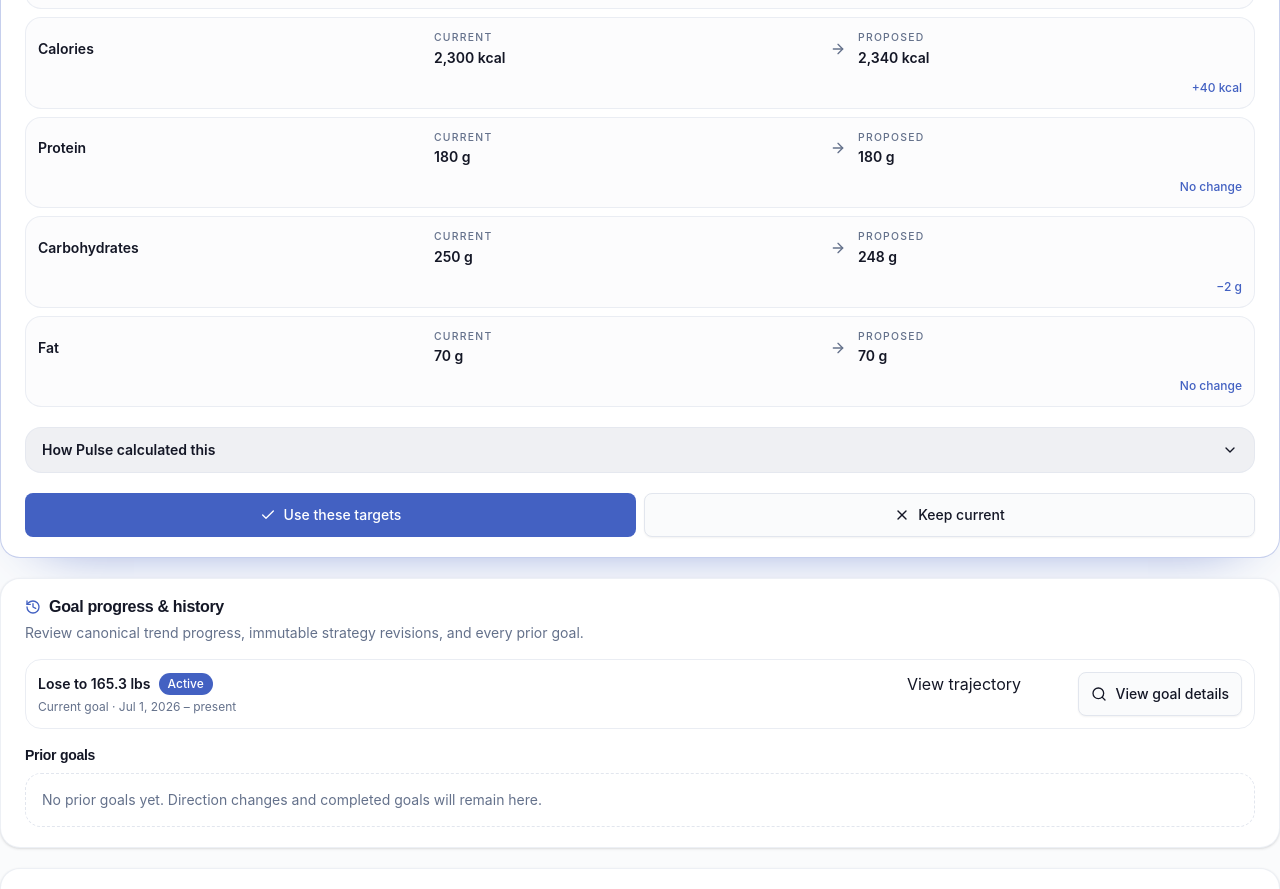
Scenario: AdaptiveCoach › shows the required equation-based baseline inputs and outputs in the setup preview
(page scrolled)
Click the heading "How Pulse calculated this": (129, 450) [42,441,1238,458]
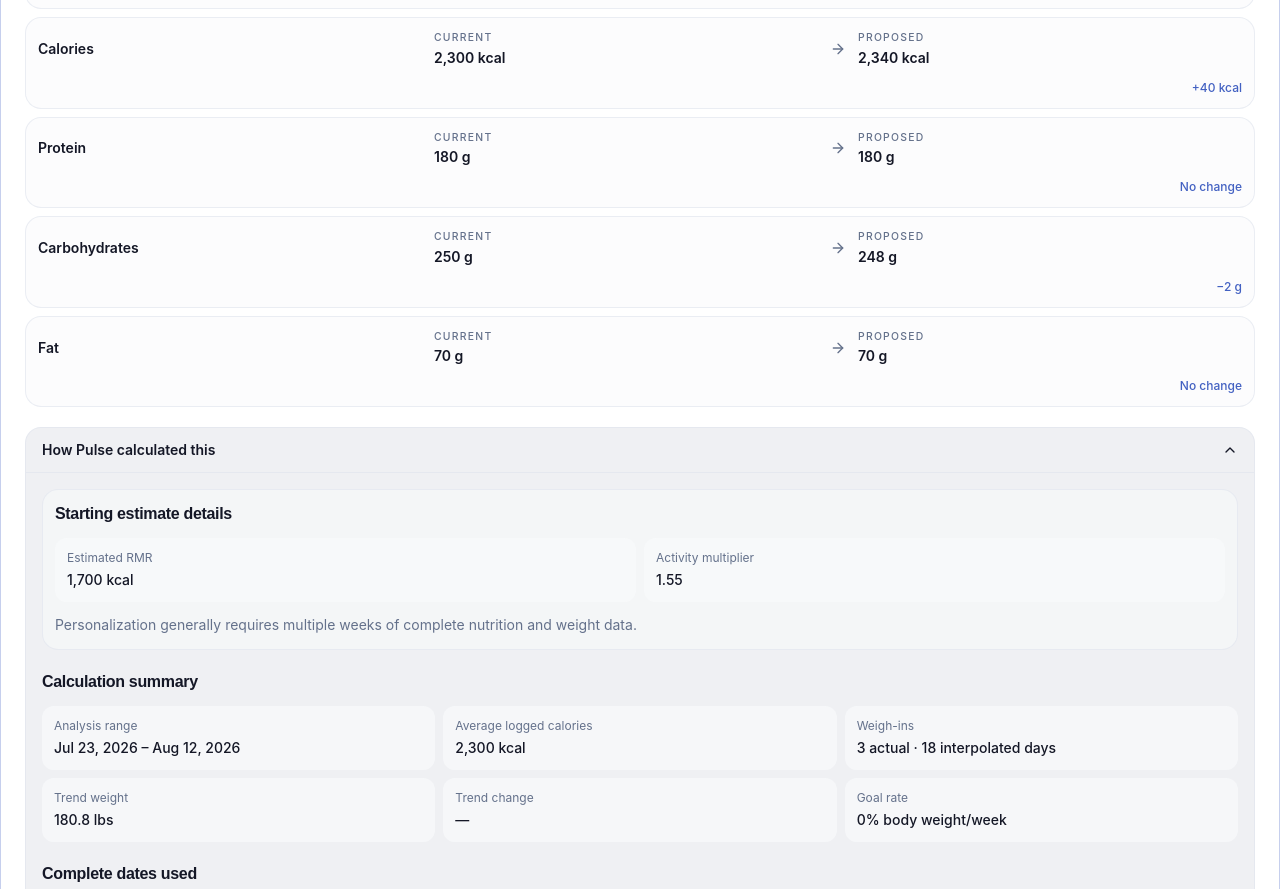
Now the text "Estimated RMR" is shown, box [67,550,152,565]
Now the text "1,700 kcal" is shown, box [67,571,134,588]
Now the text "Activity multiplier" is shown, box [656,550,754,565]
